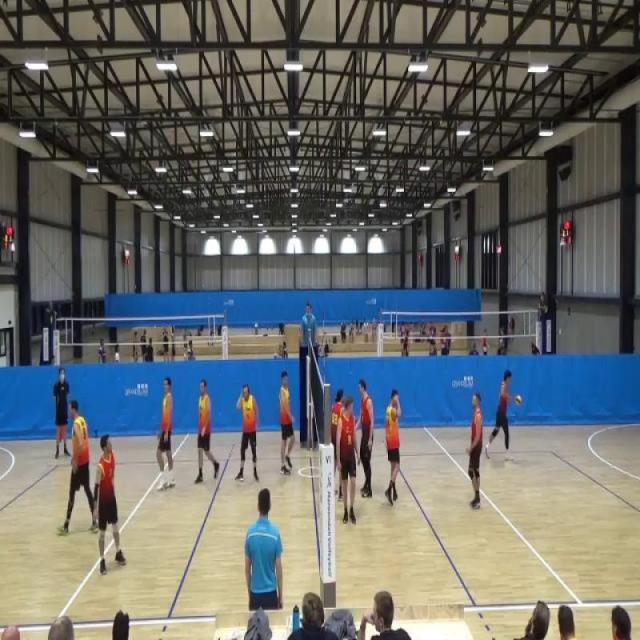volleyball: (514, 393, 522, 408)
